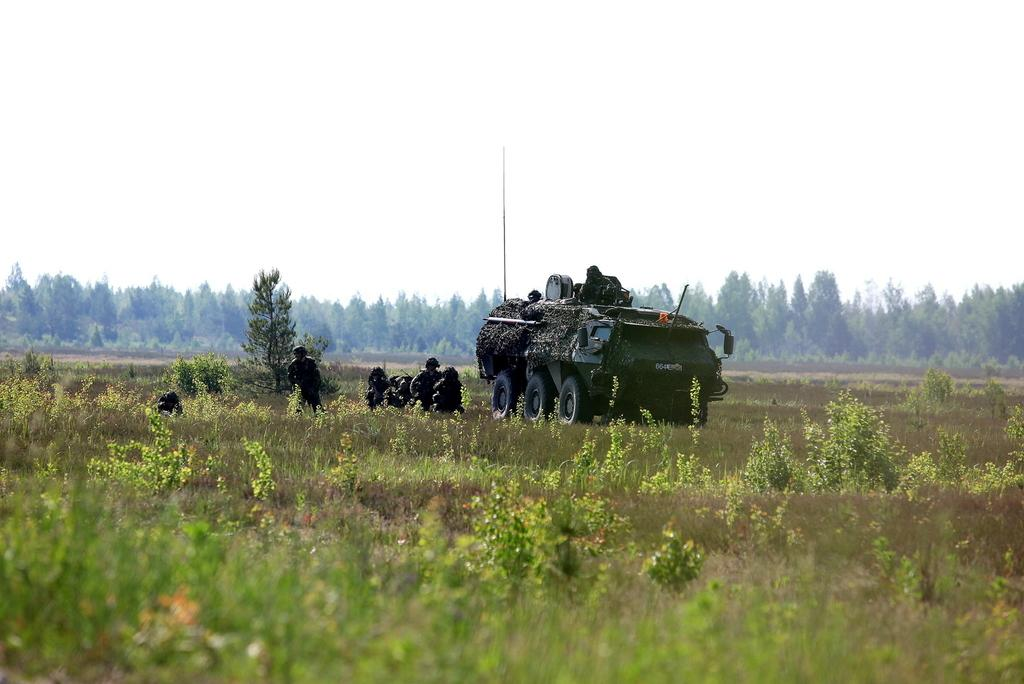Tank: (472, 143, 731, 426)
